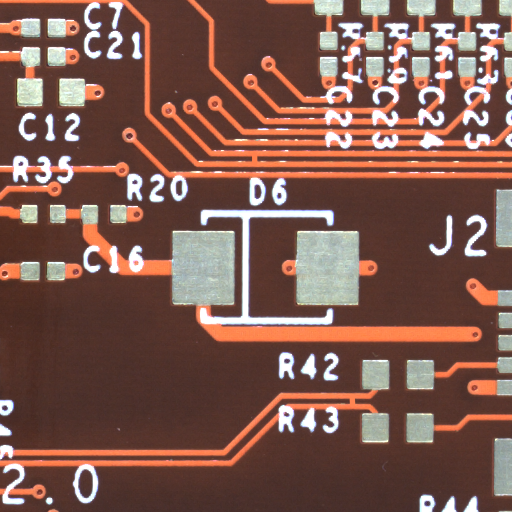Short: (254, 158, 264, 168), (352, 400, 361, 408)
